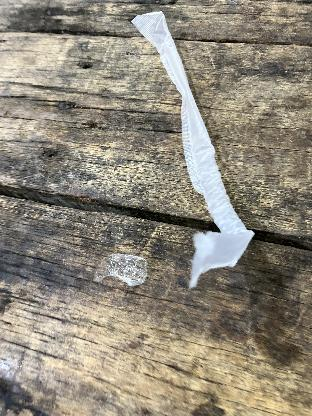Others: (130, 10, 252, 286), (94, 248, 150, 294)
